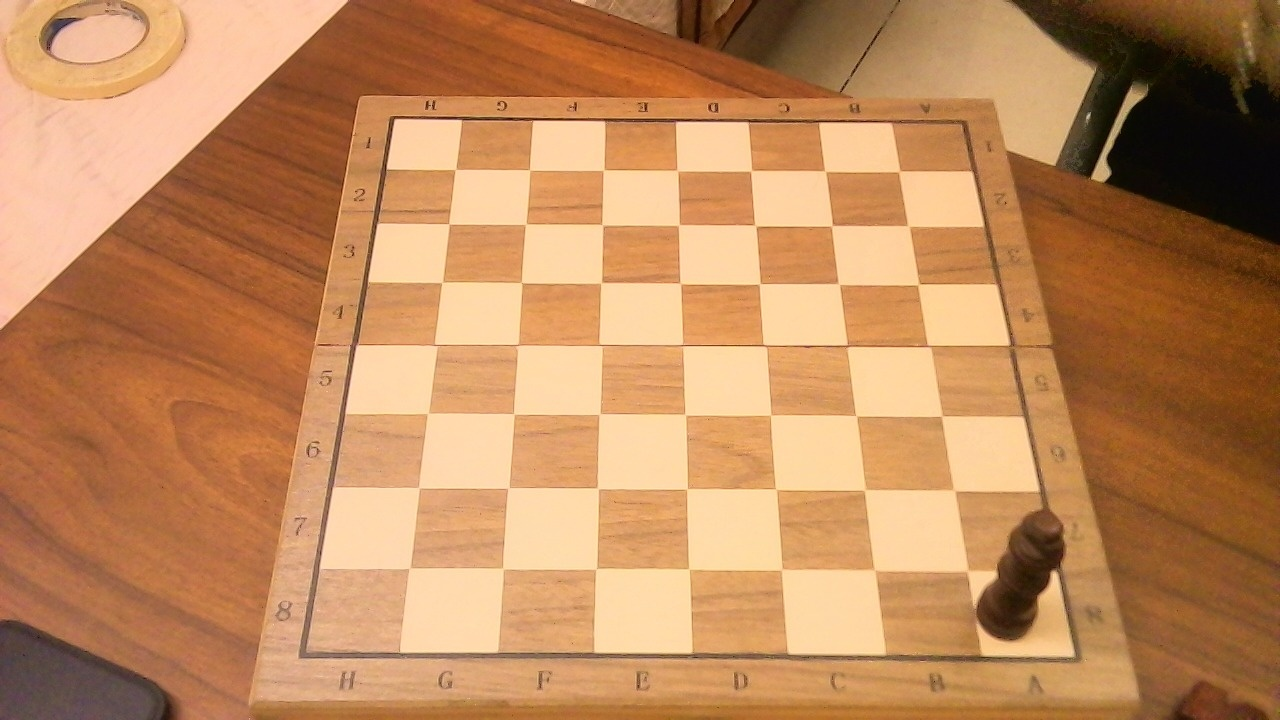q: (976, 496, 1079, 648)
